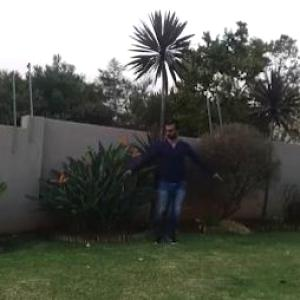land: (113, 110, 227, 254)
